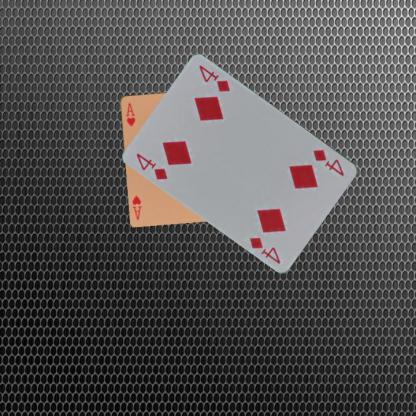4d: (308, 146, 348, 178), (134, 150, 170, 184)
Ah: (123, 100, 136, 127)
